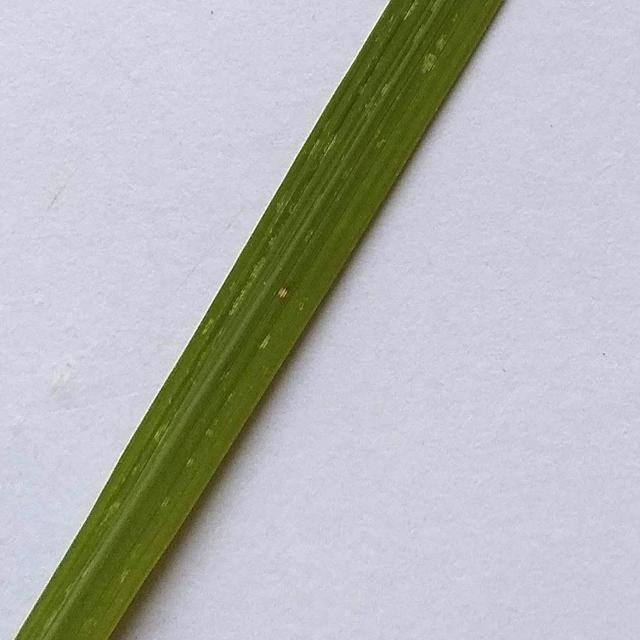Blast: (272, 286, 299, 304)
